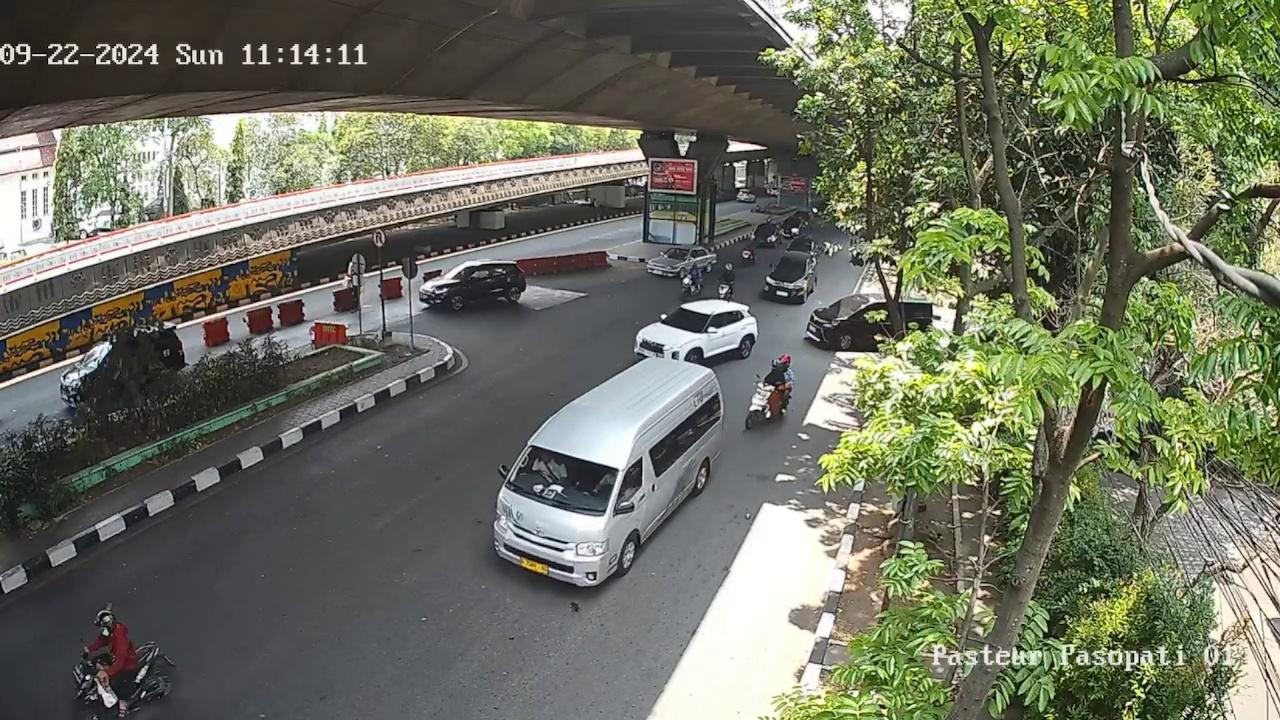pakai: (530, 455, 571, 484)
windshield: (507, 445, 624, 517), (667, 306, 707, 332)
